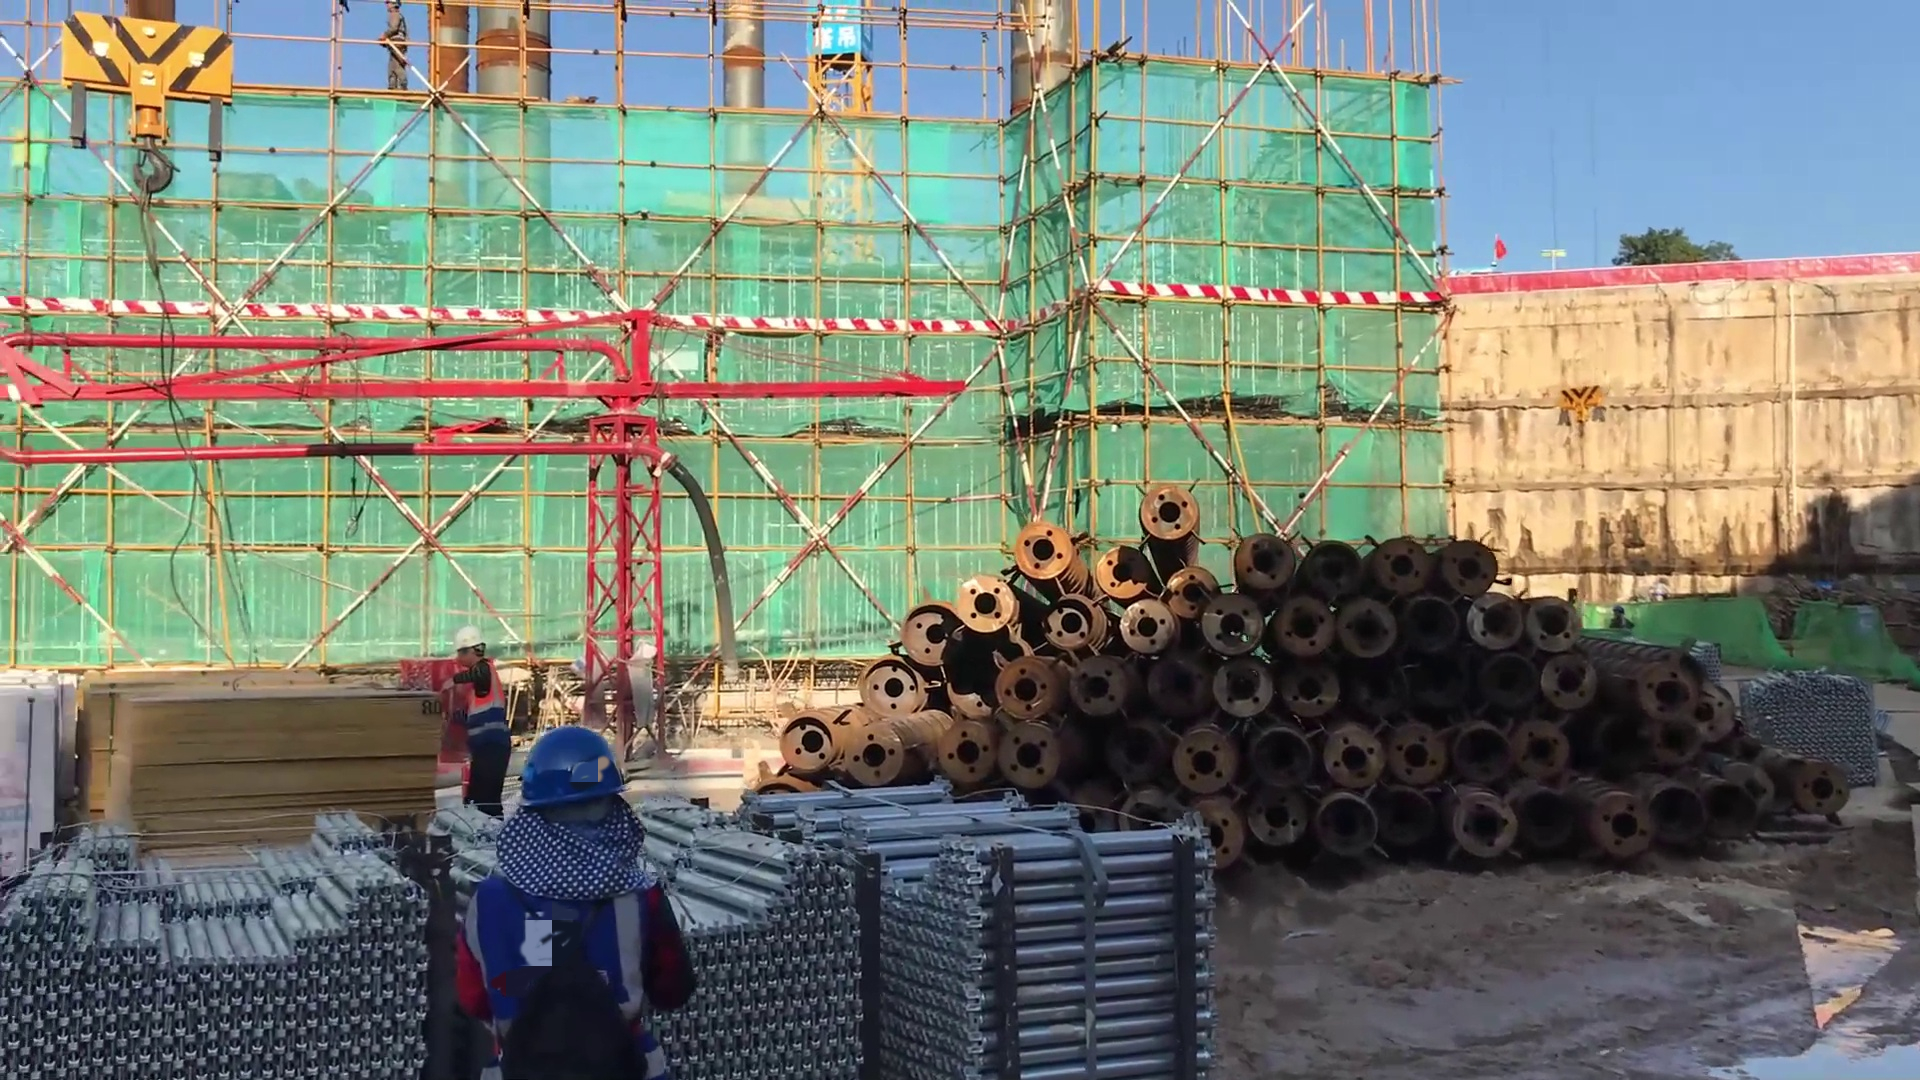board: (79, 661, 450, 826)
fence: (1429, 244, 1916, 299)
helmet: (508, 736, 633, 802), (451, 627, 497, 651)
hook: (47, 1, 240, 235)
person: (458, 731, 700, 1078), (443, 624, 521, 834), (373, 1, 422, 93)
scaffold: (659, 759, 1219, 1080), (1, 809, 452, 1080), (1740, 666, 1880, 788)
slogan: (811, 1, 869, 70)
vest: (461, 868, 686, 1079), (459, 661, 515, 747)
